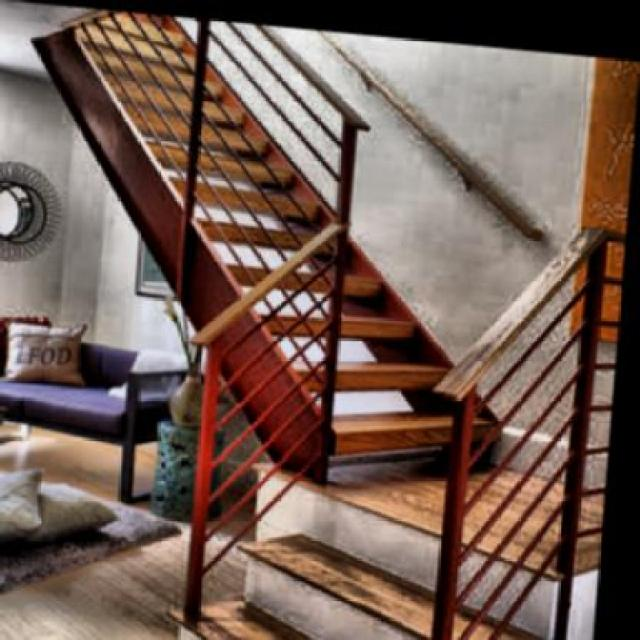stair: (154, 14, 558, 452), (160, 451, 582, 638)
